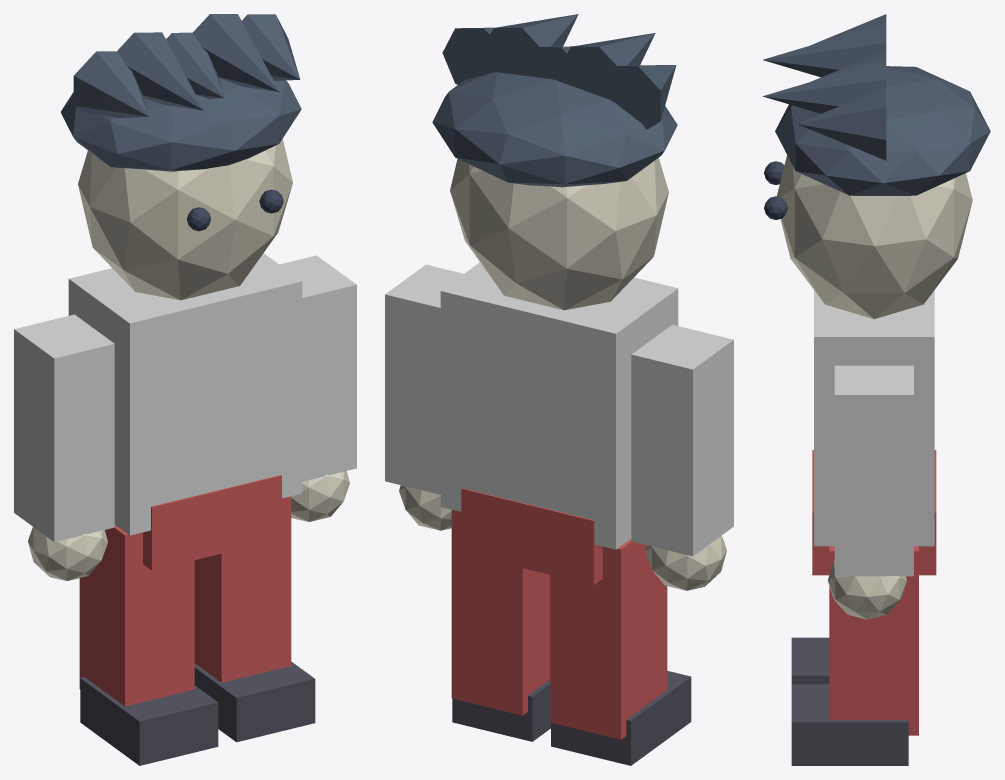
File: tifa.glb
3 views of the same model, side by side, from view 1: azimuth 30°, elevation 25°; view 2: azimuth 150°, elevation 25°; view 3: azimuth 270°, elevation 25° (orthographic). The views are drawn at different scales.
Parts seen in each view (by area): view 1: part_000, part_010, part_002, part_004, part_013, part_008, part_006, part_001, part_005, part_009, part_014, part_015 (+5 smaller); view 2: part_000, part_010, part_002, part_013, part_004, part_008, part_006, part_001, part_005, part_015, part_014, part_017 (+5 smaller); view 3: part_010, part_006, part_013, part_000, part_008, part_009, part_018, part_015, part_017, part_007, part_005, part_001 (+1 smaller).
Part boxes in pixels (<box>): part_000: <box>68,253,302,535</box>; part_010: <box>78,139,292,300</box>; part_002: <box>14,314,114,542</box>; part_004: <box>79,525,194,706</box>; part_013: <box>60,78,301,171</box>; part_008: <box>194,496,291,682</box>; part_006: <box>279,255,356,481</box>; part_001: <box>143,475,281,570</box>; part_005: <box>80,677,218,765</box>; part_009: <box>194,661,315,742</box>; part_014: <box>73,51,148,117</box>; part_015: <box>117,32,203,110</box>; part_000: <box>440,262,678,549</box>; part_010: <box>450,158,668,310</box>; part_002: <box>631,324,733,556</box>; part_013: <box>432,72,677,187</box>; part_004: <box>550,539,667,739</box>; part_008: <box>451,510,550,715</box>; part_006: <box>385,264,463,494</box>; part_001: <box>461,488,602,585</box>; part_005: <box>551,671,691,765</box>; part_015: <box>558,33,655,103</box>; part_014: <box>596,65,676,129</box>; part_017: <box>481,14,578,77</box>; part_010: <box>777,155,972,319</box>; part_006: <box>834,365,913,576</box>; part_013: <box>775,66,990,195</box>; part_000: <box>814,290,934,546</box>; part_008: <box>829,546,918,735</box>; part_009: <box>791,684,908,765</box>; part_018: <box>797,87,886,160</box>; part_015: <box>763,23,886,77</box>; part_017: <box>763,59,886,113</box>; part_007: <box>827,561,906,619</box>; part_005: <box>791,637,829,684</box>; part_001: <box>812,450,936,575</box>.
Bounding box in the file's own units: 1.03 × 2.17 × 0.6628.
